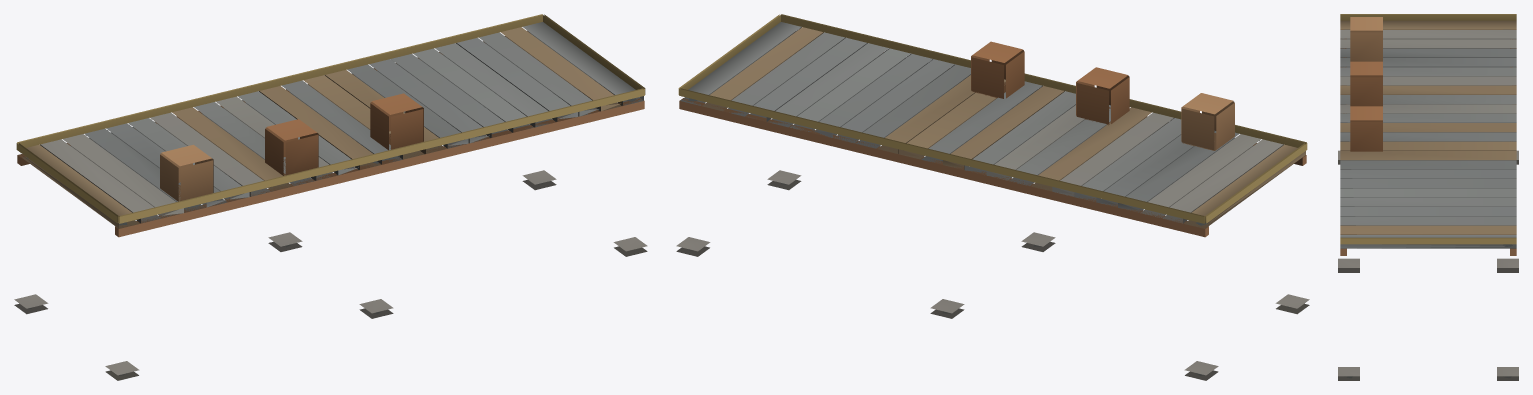
Rendered from deck_long.lod.glb.
3 views of the same model, side by side, from view 1: azimuth 30°, elevation 25°; view 2: azimuth 150°, elevation 25°; view 3: azimuth 270°, elevation 25° (orthographic). The views are drawn at different scales.
Parts seen in each view (by area): view 1: deck_long; view 2: deck_long; view 3: deck_long.
Part boxes in pixels (left/top/right/bottom): deck_long: left=14, top=14, right=647, bottom=380; deck_long: left=676, top=14, right=1309, bottom=380; deck_long: left=1338, top=14, right=1518, bottom=380.
Bounding box in the file's own units: 12.1 × 4.2 × 4.1.
